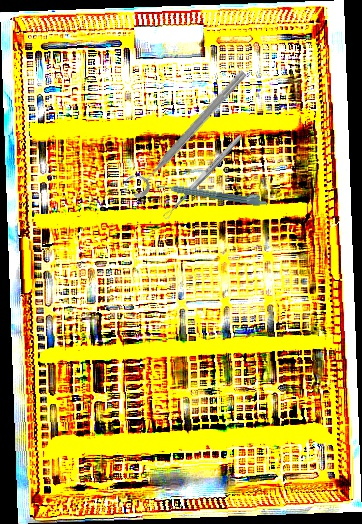Fixation Ring: (120, 60, 251, 202)
Handpiece: (156, 177, 269, 208)
Surgical Spoon: (161, 133, 244, 221)
